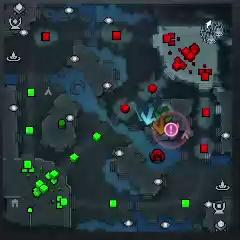Other: (164, 122, 178, 136)
x1: (169, 118, 182, 137)
x3: (140, 105, 157, 125)
x4: (154, 105, 172, 123)
x5: (152, 115, 169, 135)
